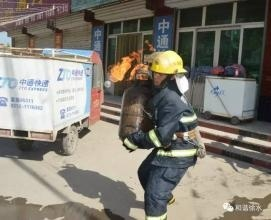fire: (108, 51, 144, 81)
